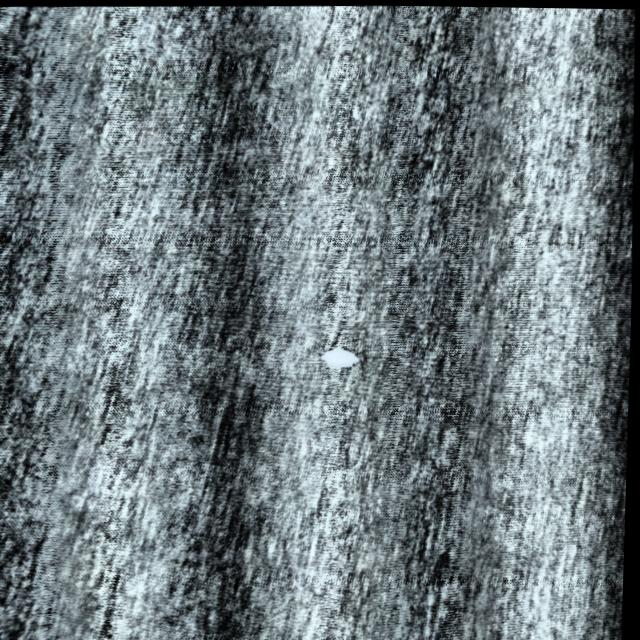Hole: (310, 336, 380, 374)
